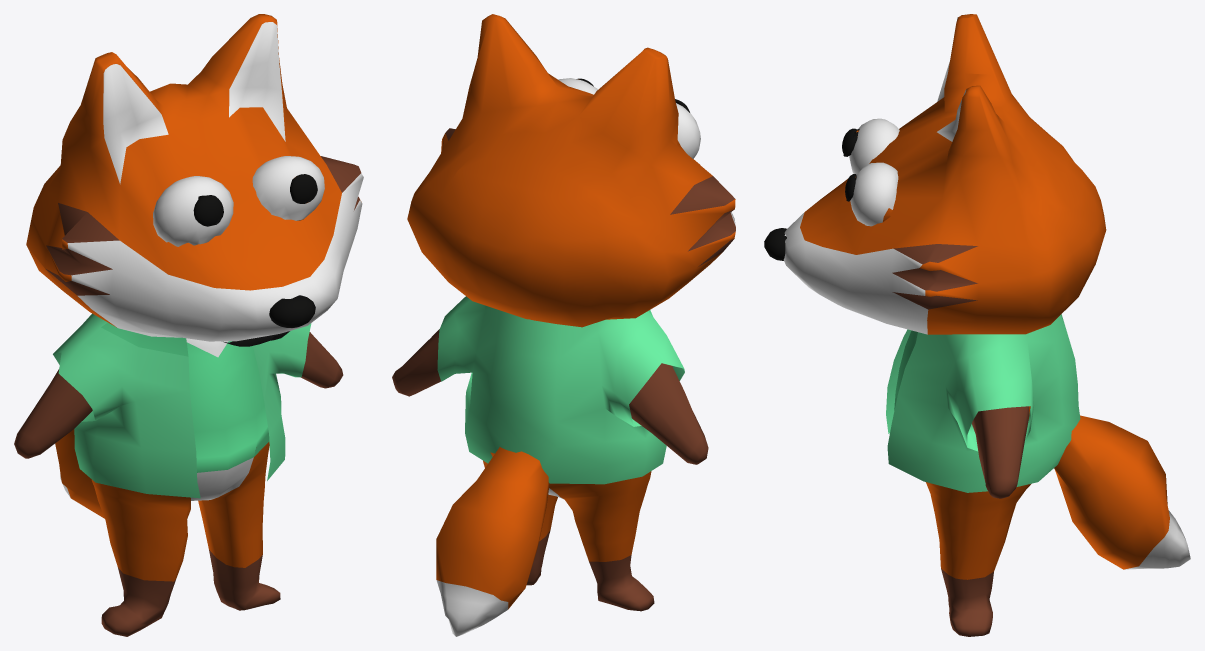
File: fox-character 3- Copy (2).fbx
The picture shows the model from 3 angles, left to right: view 1: azimuth 30°, elevation 25°; view 2: azimuth 150°, elevation 25°; view 3: azimuth 270°, elevation 25°; orthographic projection. The views are drawn at different scales.
Parts seen in each view (by area): view 1: Cube; view 2: Cube; view 3: Cube.
Part boxes in pixels (x1=…): Cube: x1=14, y1=14, x2=363, y2=636; Cube: x1=392, y1=14, x2=735, y2=636; Cube: x1=764, y1=14, x2=1190, y2=636.
Bounding box in the file's own units: 114 × 196 × 139.
